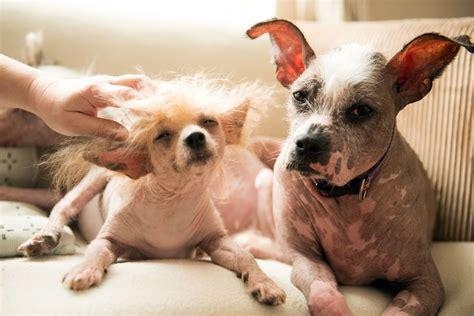dog: (247, 20, 474, 316), (21, 78, 284, 306)
